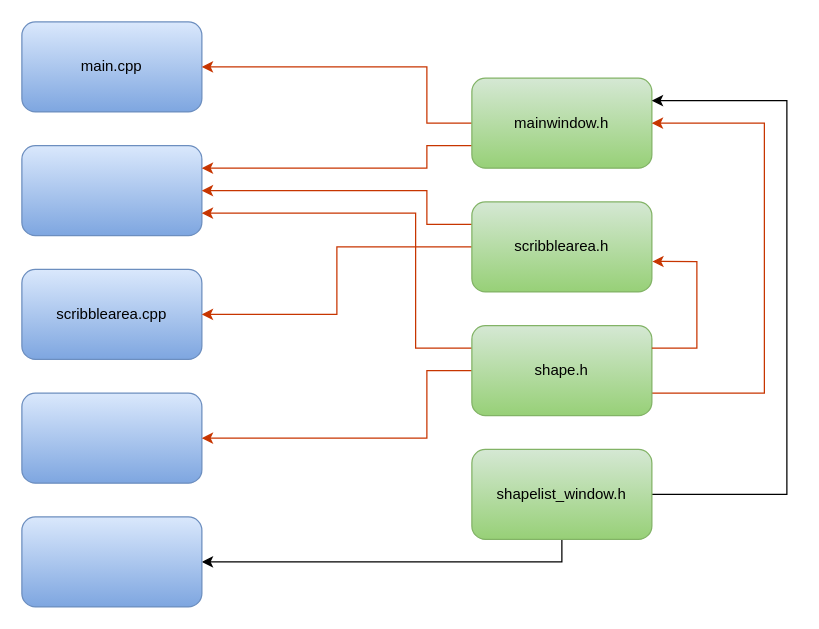
The diagram is 819 pixels wide and 629 high, and some of its shapes have lost their labels. Each missing label, with the box of its shape:
mainwindow .cpp: (21, 144, 202, 236)
shape.cpp: (21, 392, 202, 483)
shapelist_window .cpp: (21, 516, 202, 607)
